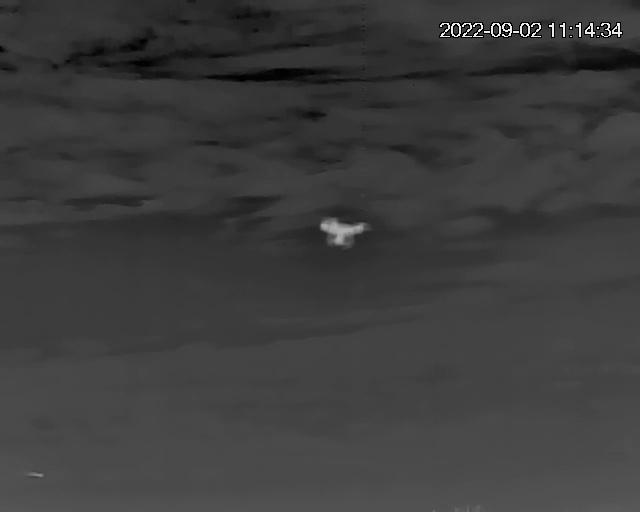DJI-Phantom: (317, 215, 373, 251)
